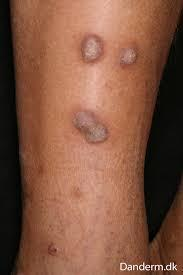hypertrophic lichen planus: (46, 21, 143, 162)
